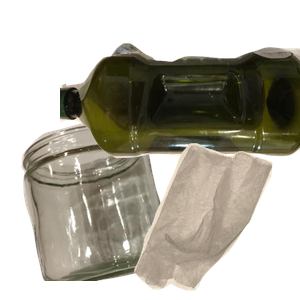glass: (19, 120, 184, 300)
metal: (81, 41, 234, 178)
plastic: (60, 44, 300, 195)
trash: (132, 140, 300, 300)
